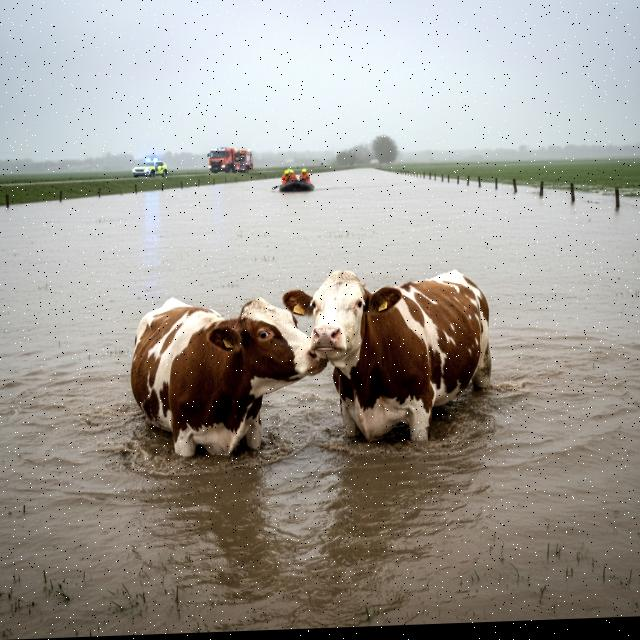cow: (278, 244, 516, 473), (124, 269, 326, 482)
rescuer: (296, 161, 316, 189), (288, 166, 298, 183), (280, 170, 290, 187)
